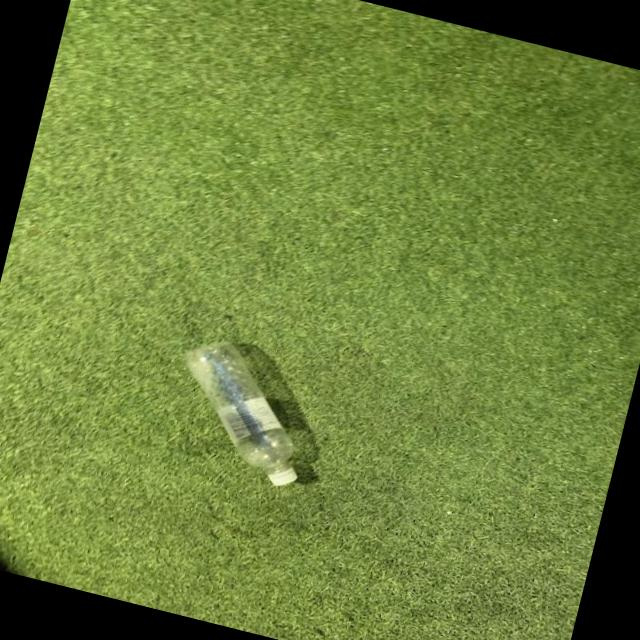plastic_bottle: (160, 332, 324, 490)
